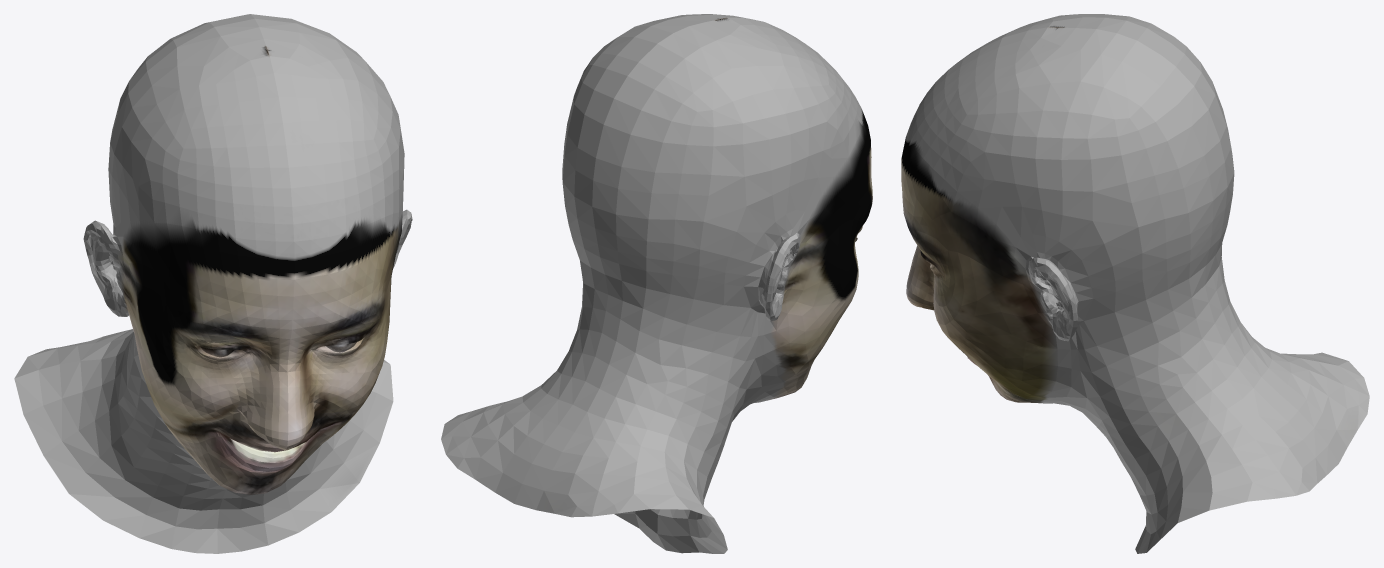
File: ezgif-frame-012.obj
3 views of the same model, side by side, from view 1: azimuth 30°, elevation 25°; view 2: azimuth 150°, elevation 25°; view 3: azimuth 270°, elevation 25° (orthographic). The views are drawn at different scales.
Size of the model in its own units: 0.2051 by 0.3224 by 0.2709.
Materials: 1 (1 with a texture image).
